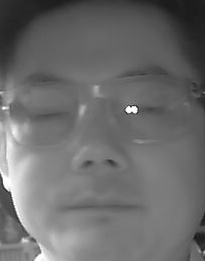glass: (106, 73, 193, 142), (1, 78, 78, 143)
mouth: (57, 189, 139, 228)
